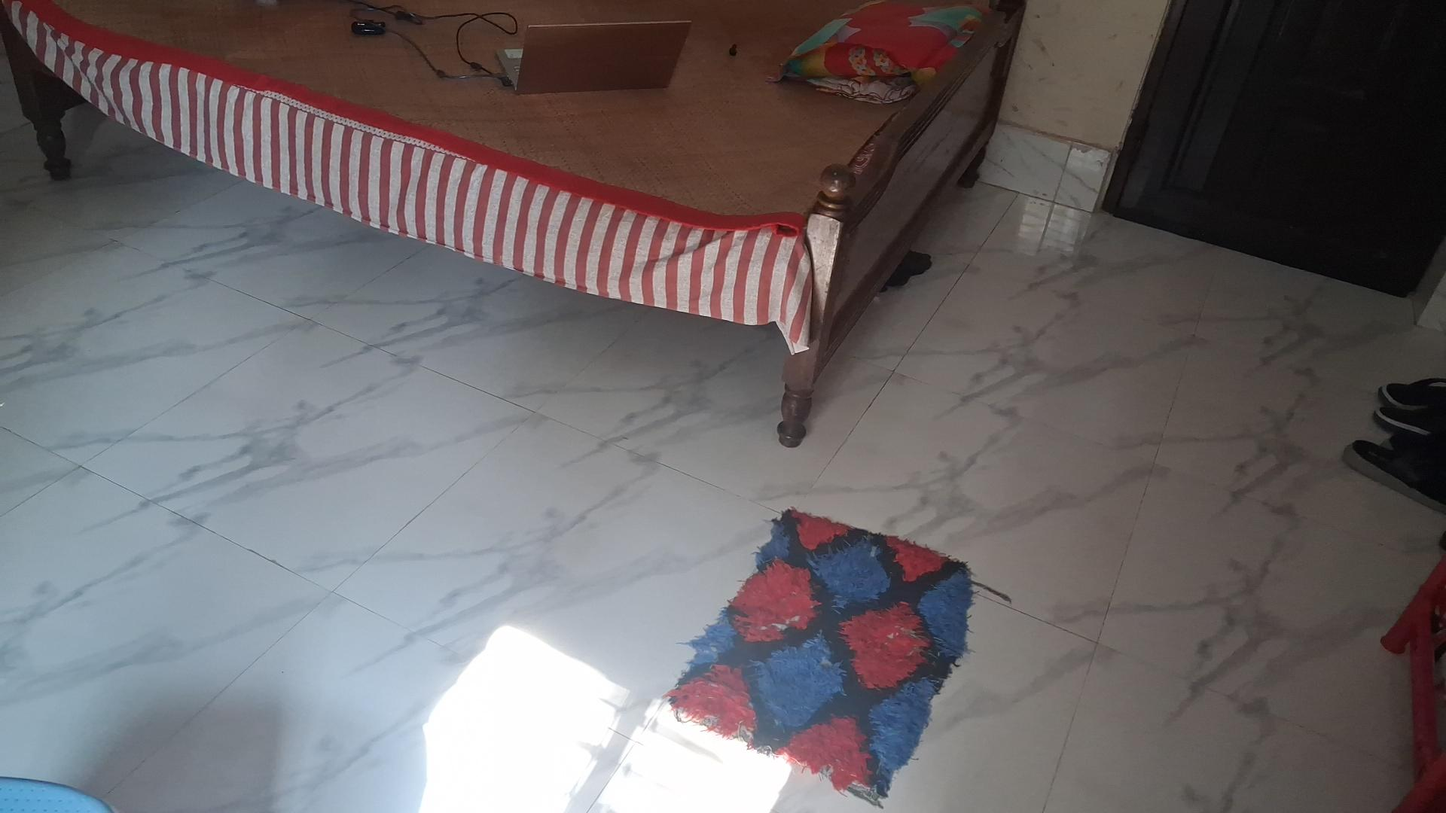Floor Mat: (669, 503, 972, 813)
Laptop: (495, 20, 692, 94)
Pillow: (772, 3, 995, 97)
